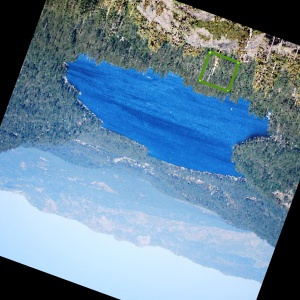square: (197, 49, 240, 95)
